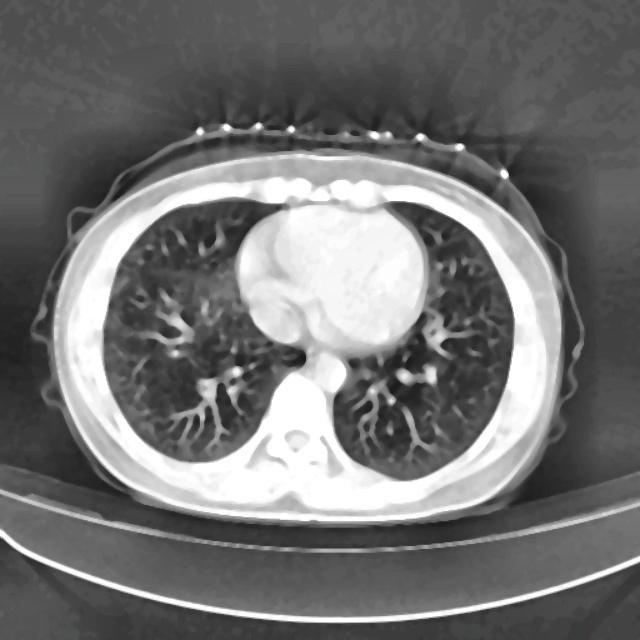covid: (32, 122, 584, 527)
